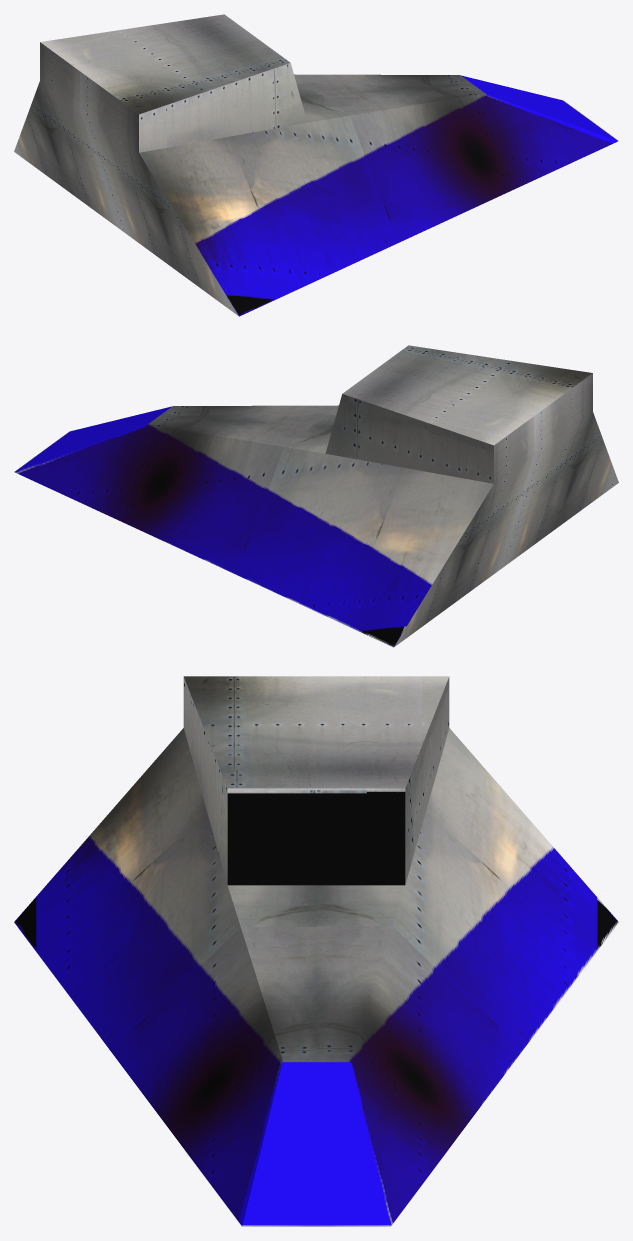
File: speedBoat01_BLUE.fbx
The picture shows the model from 3 angles, top to bottom: view 1: azimuth 30°, elevation 25°; view 2: azimuth 150°, elevation 25°; view 3: azimuth 270°, elevation 25°; orthographic projection. The views are drawn at different scales.
Parts seen in each view (by area): view 1: pCube1; view 2: pCube1; view 3: pCube1.
Boxes of the visible parts, x1,y1,x2,y2 form: pCube1: [14, 14, 618, 316]; pCube1: [14, 345, 618, 647]; pCube1: [14, 676, 618, 1226].
Bounding box in the file's own units: 23.99 × 7.54 × 18.65.
Materials: 1 (1 with a texture image).
